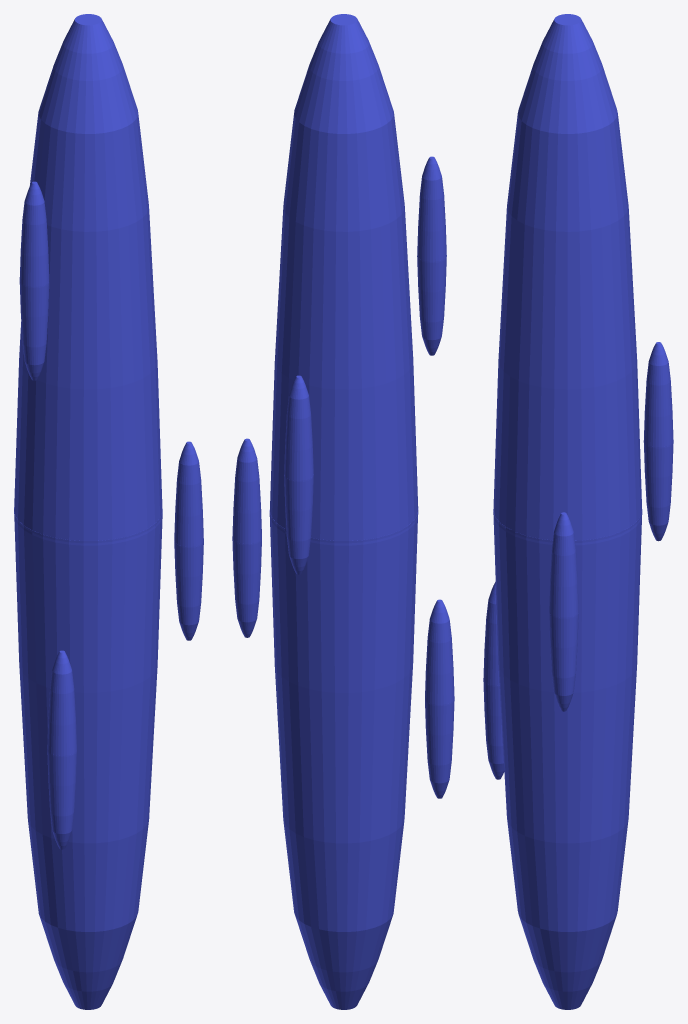
File: bullet01.glb
3 views of the same model, side by side, from view 1: azimuth 30°, elevation 25°; view 2: azimuth 150°, elevation 25°; view 3: azimuth 270°, elevation 25° (orthographic).
Parts seen in each view (by area): view 1: Cylinder.006, Cylinder.003, Cylinder.001, Cylinder.004; view 2: Cylinder.006, Cylinder.002, Cylinder.004, Cylinder.003, Cylinder.001; view 3: Cylinder.006, Cylinder.003, Cylinder.002, Cylinder.001.
Boxes of the visible parts, bbox=[...] form: Cylinder.006: bbox=[14, 14, 162, 1009]; Cylinder.003: bbox=[174, 441, 203, 640]; Cylinder.001: bbox=[47, 650, 76, 849]; Cylinder.004: bbox=[19, 181, 49, 380]; Cylinder.006: bbox=[269, 14, 418, 1009]; Cylinder.002: bbox=[284, 375, 313, 574]; Cylinder.004: bbox=[417, 156, 446, 355]; Cylinder.003: bbox=[232, 438, 261, 637]; Cylinder.001: bbox=[425, 599, 454, 798]; Cylinder.006: bbox=[493, 14, 642, 1009]; Cylinder.003: bbox=[549, 512, 578, 711]; Cylinder.002: bbox=[643, 342, 673, 541]; Cylinder.001: bbox=[483, 582, 504, 779].
Bounding box in the file's own units: 0.7849 × 3.78 × 0.6614.
